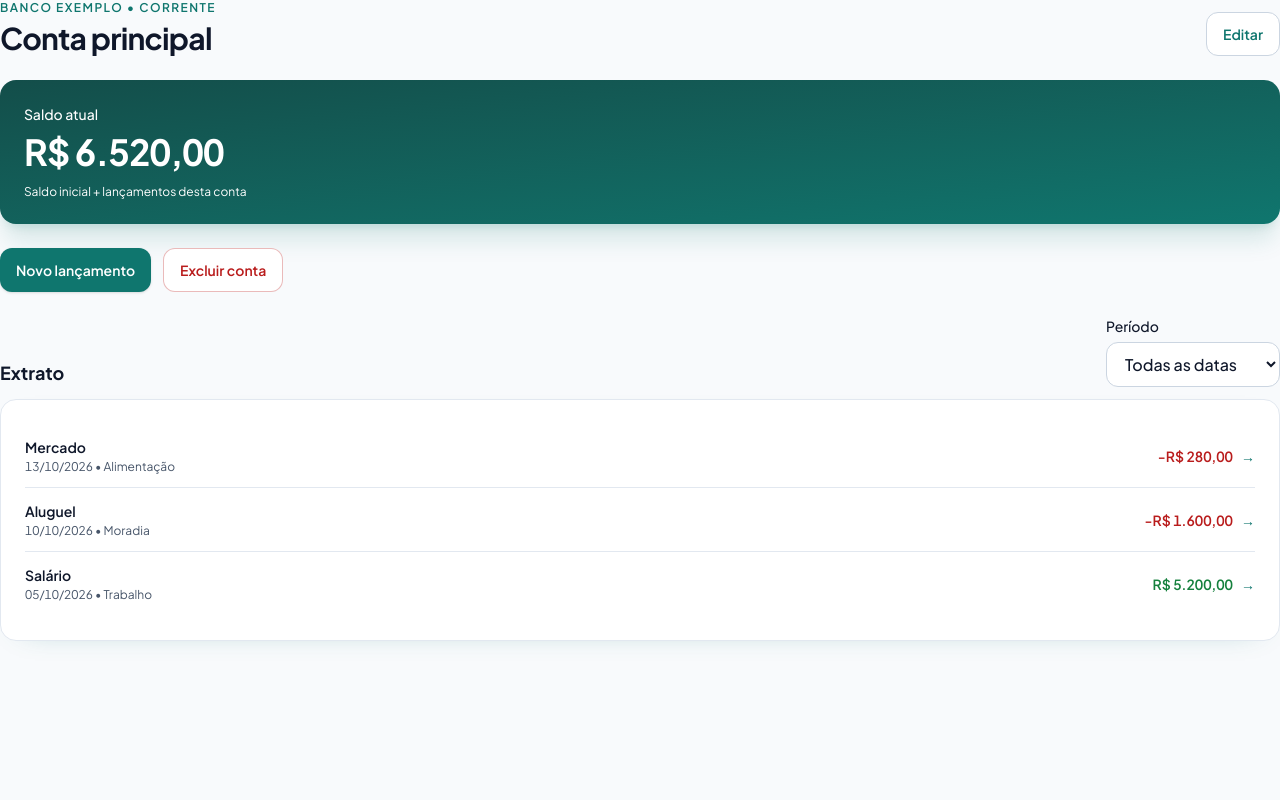
Test case: fluxos financeiros › bloqueia exclusão de conta ocupada com retorno acessível
Step 1. Click the button "Excluir conta" → (223, 270), box x1=163 y1=248 x2=283 y2=292
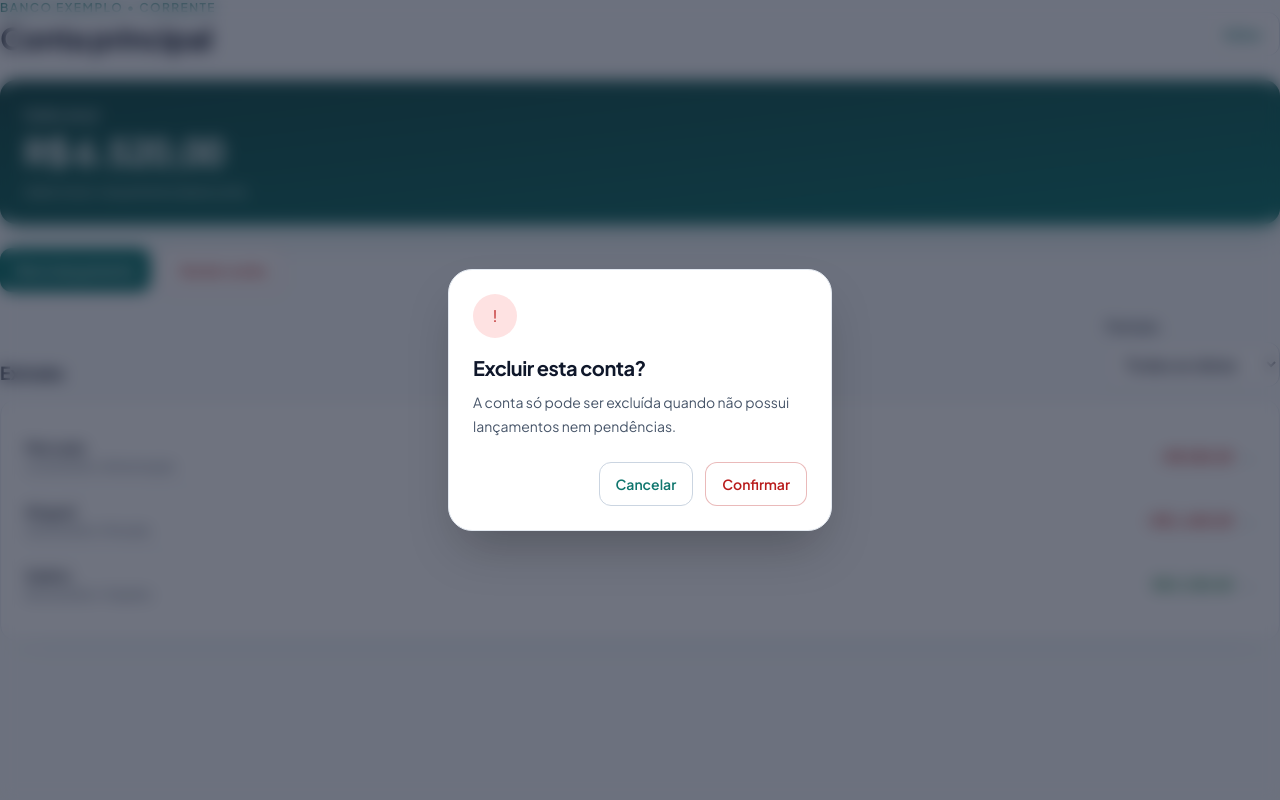
Step 2. Click the button "Confirmar" → (756, 484), box x1=705 y1=462 x2=807 y2=506
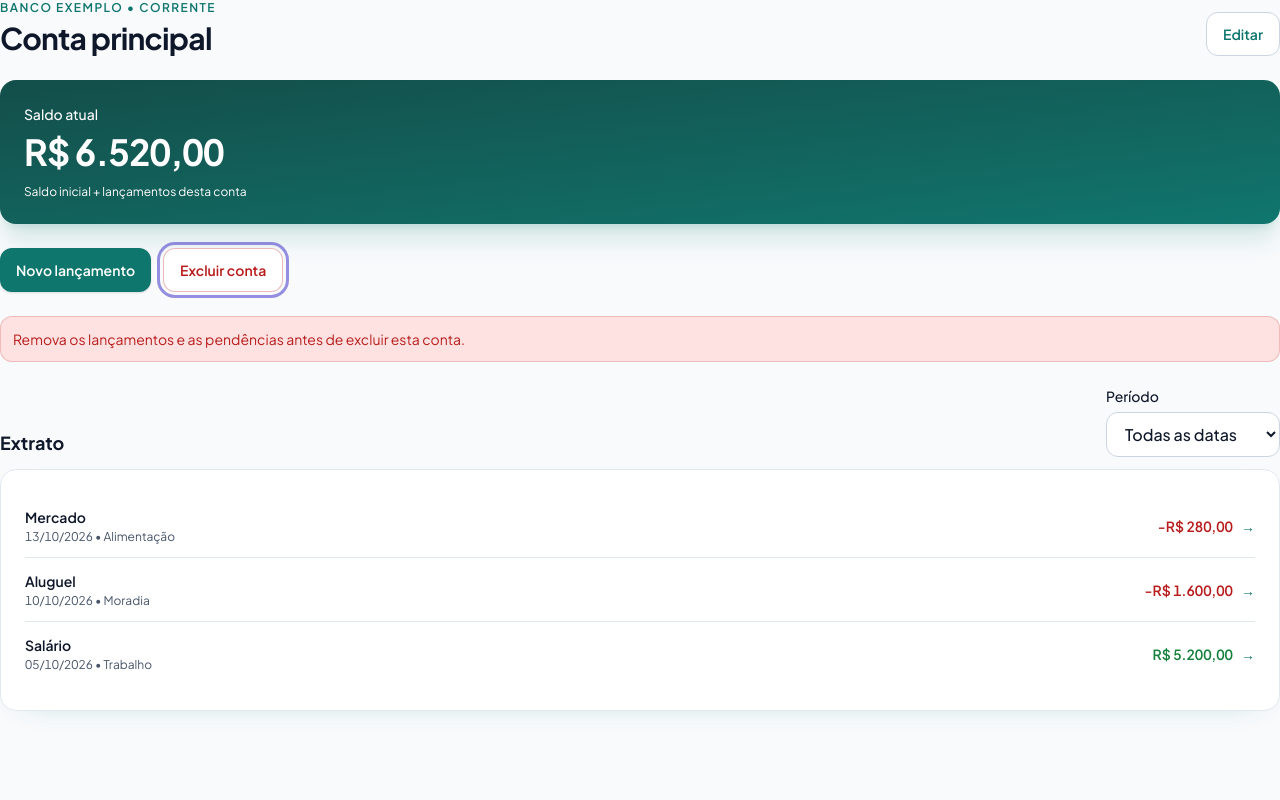
Expected: the message shows "Remova os lançamentos", x1=13 y1=330 x2=465 y2=348
